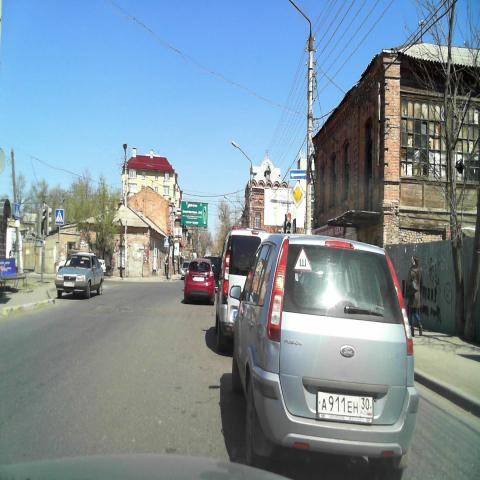5_7_2: (289, 169, 307, 179)
